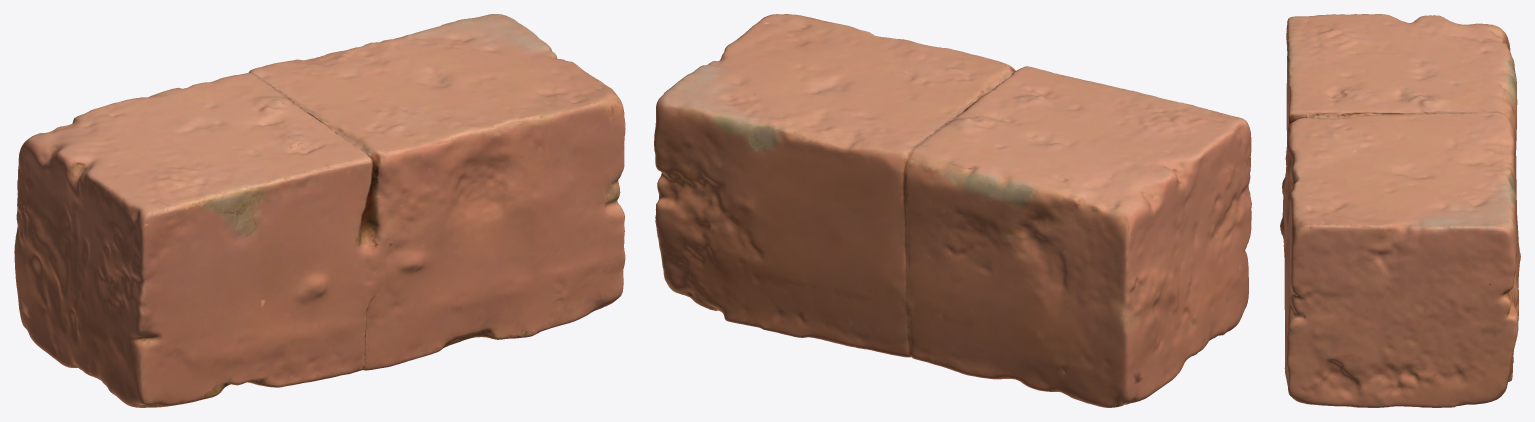
File: brick object.glb
3 views of the same model, side by side, from view 1: azimuth 30°, elevation 25°; view 2: azimuth 150°, elevation 25°; view 3: azimuth 270°, elevation 25° (orthographic). The views are drawn at different scales.
Size of the model in its own units: 2 by 0.8606 by 0.958.
Materials: 1 (1 with a texture image).
